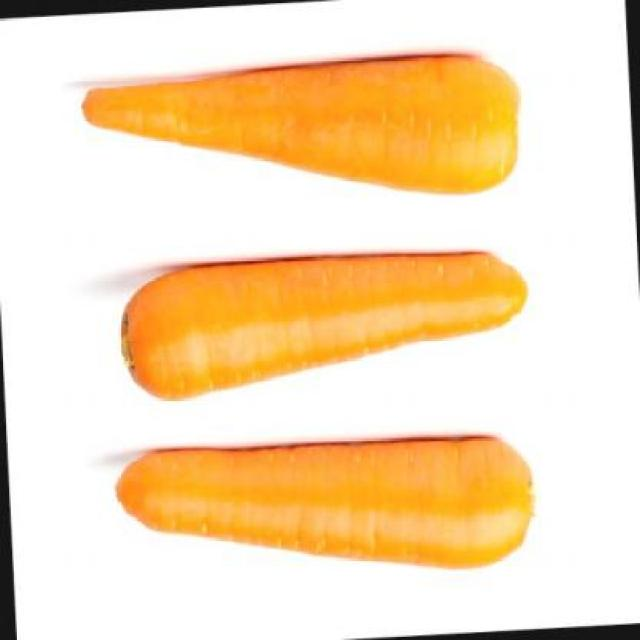carrot: (76, 48, 524, 214), (111, 426, 537, 588), (114, 246, 531, 402)
